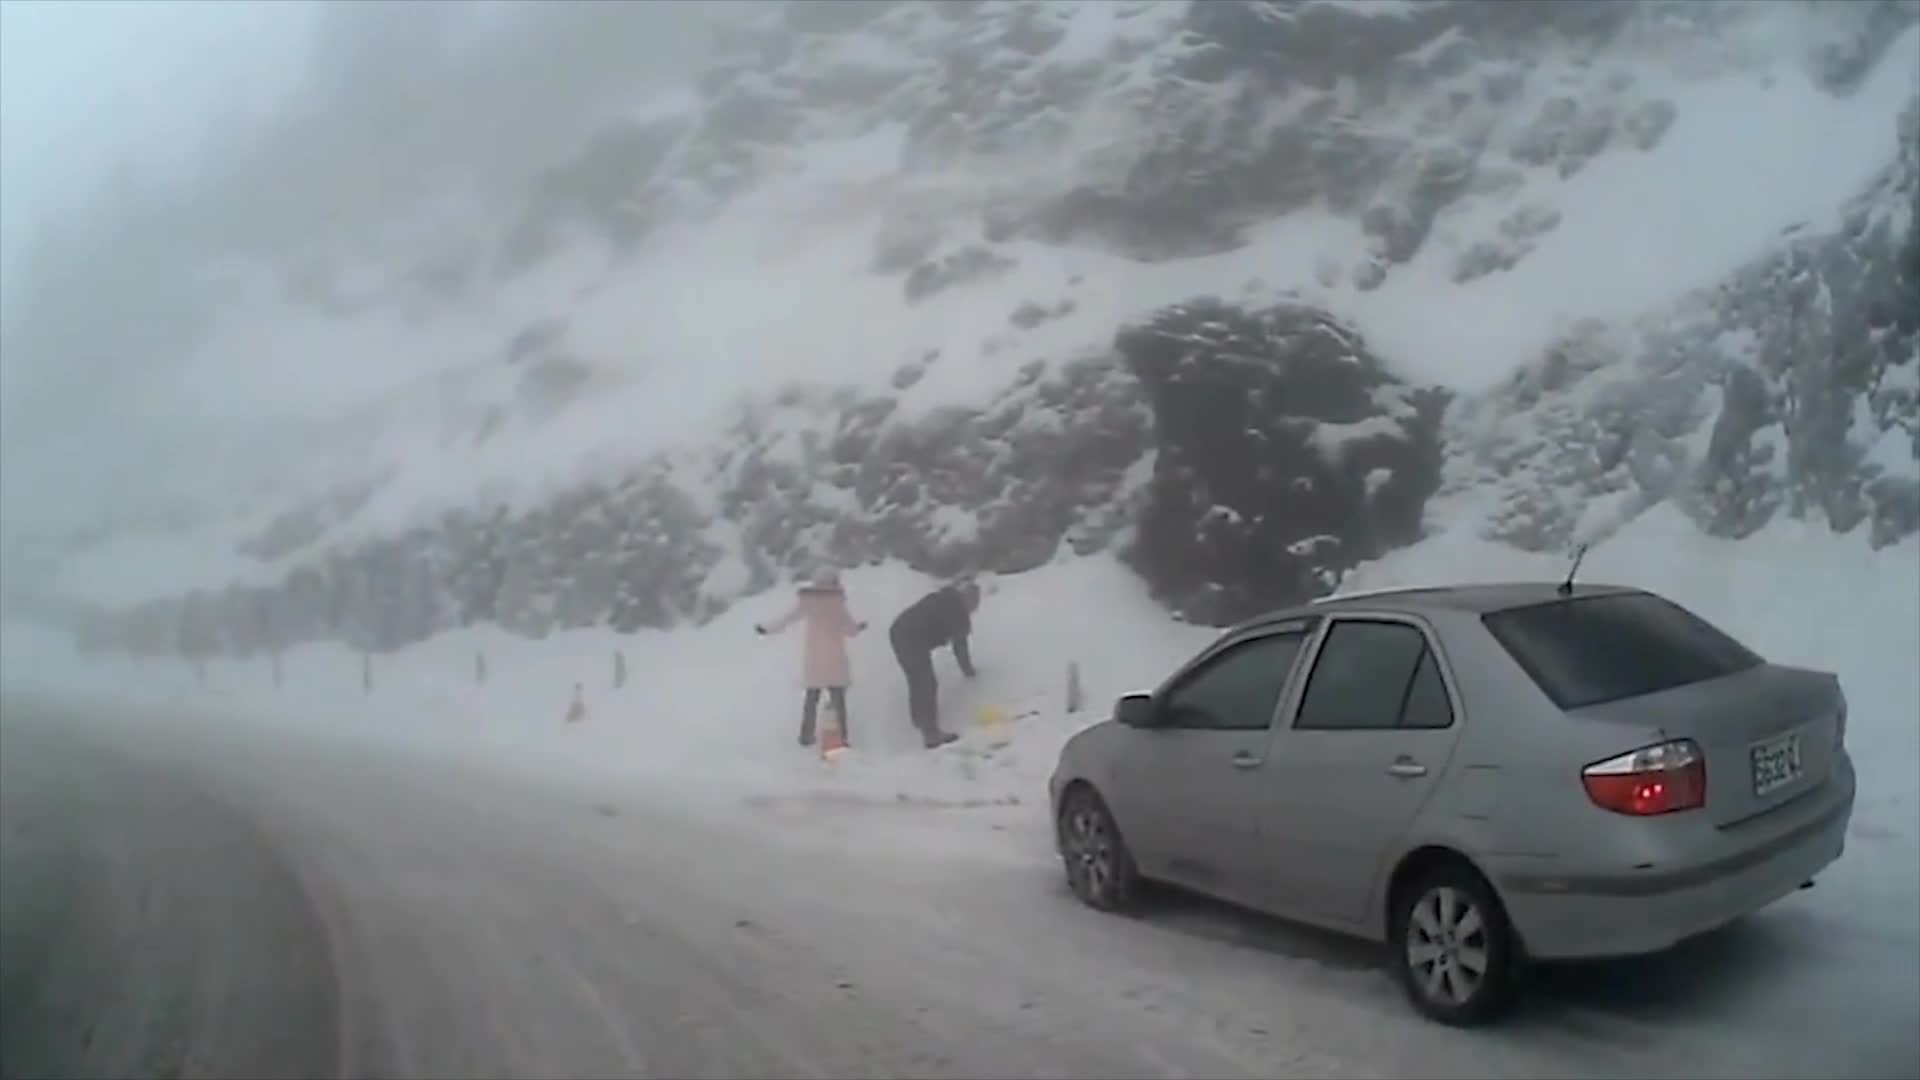pedestrian: (763, 567, 877, 755), (894, 585, 985, 751)
vehicle: (1049, 580, 1857, 1031)
